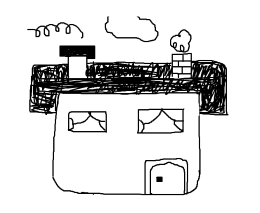clouds: (96, 4, 162, 45)
door: (134, 151, 194, 200)
open_window: (131, 103, 190, 138), (64, 103, 112, 140)
shaded_roof: (9, 52, 249, 122)
smoking_chimney: (19, 10, 100, 77), (168, 22, 198, 84)
wall: (49, 91, 207, 200)
